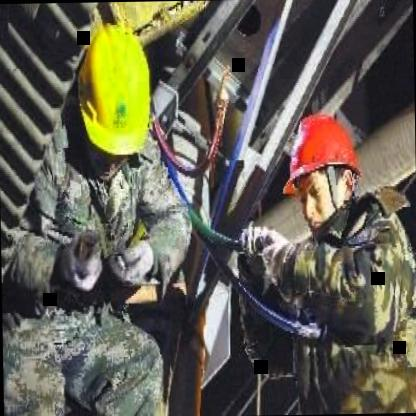helmet: (66, 20, 162, 184), (282, 108, 370, 228)
